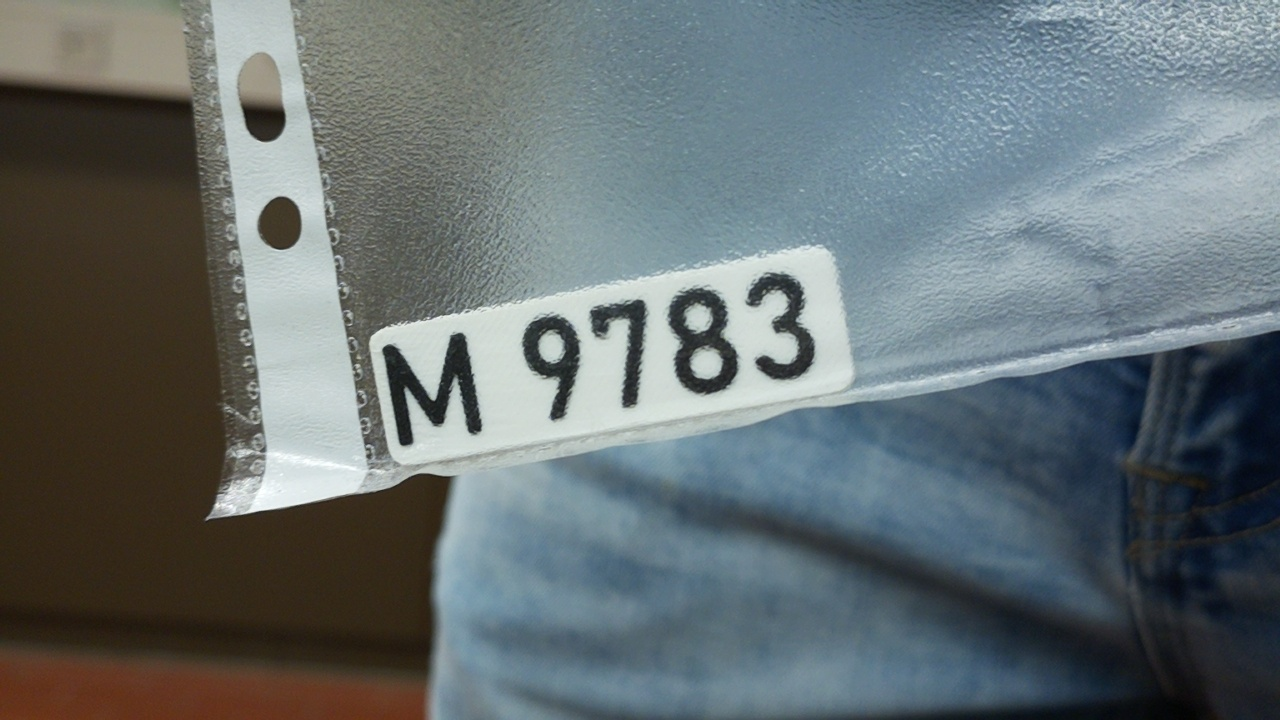license_plate: (365, 240, 863, 471)
